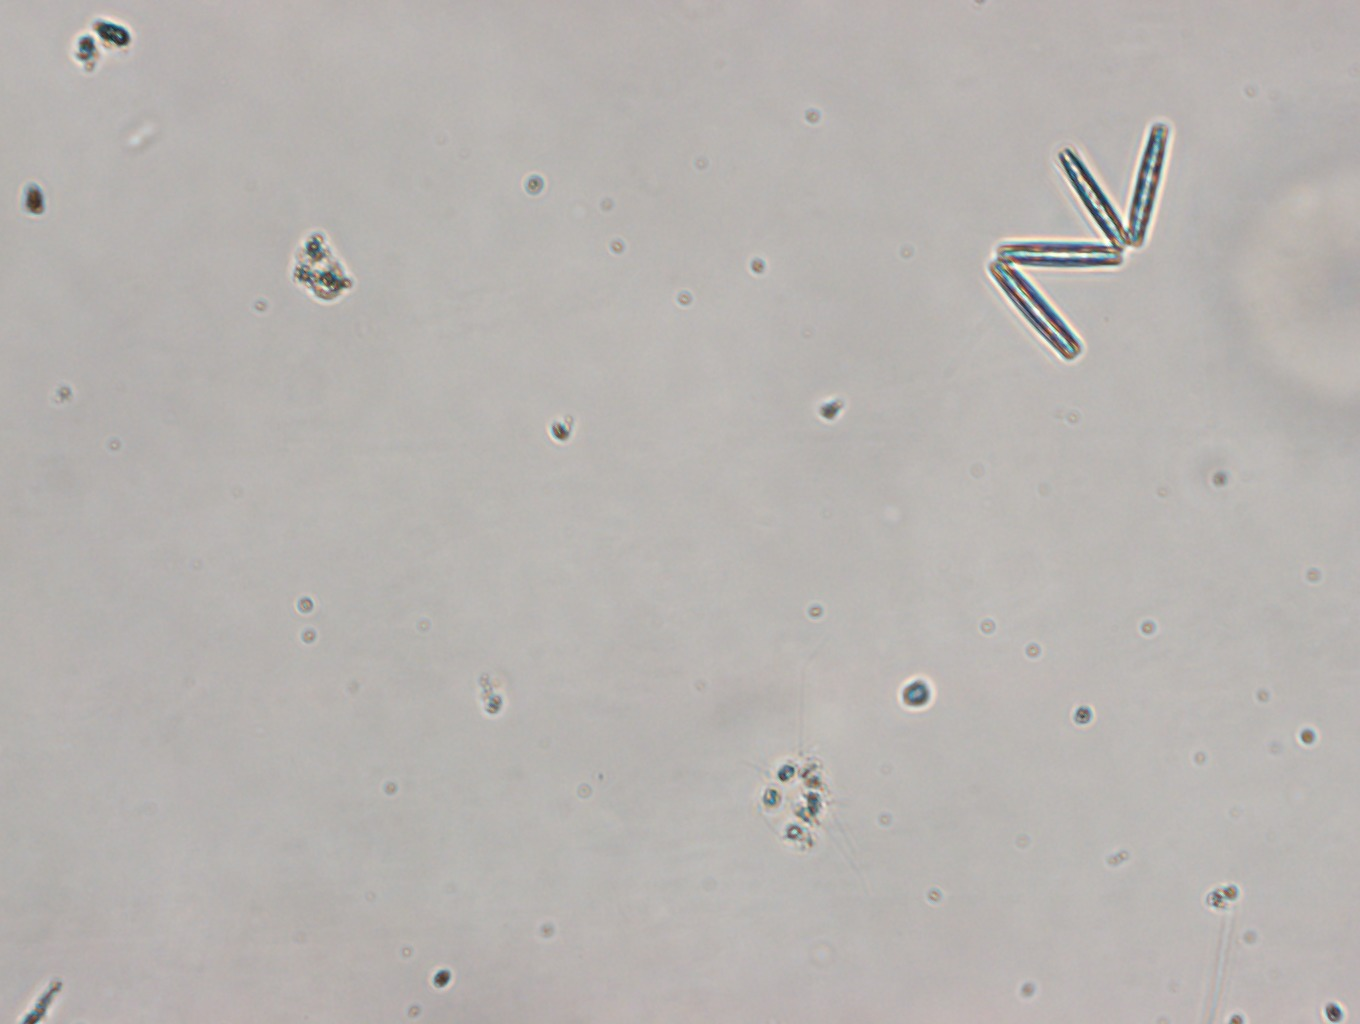thalassionema nitzschioides: (986, 117, 1173, 362)
